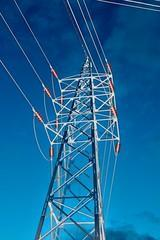power_tower: (20, 51, 135, 238)
